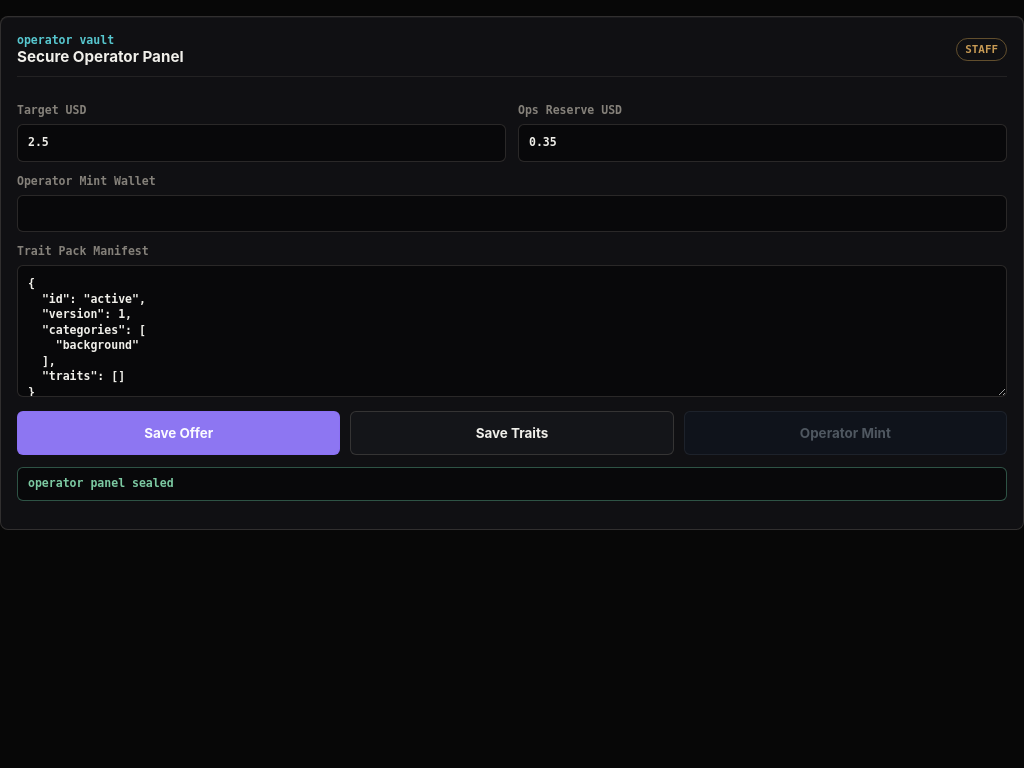
Test: AdminPanel › saves offer patches through the admin endpoint
Replace the text in the number field labelled "Target USD" with "4.25" at (262, 143), box x1=17 y1=124 x2=506 y2=162
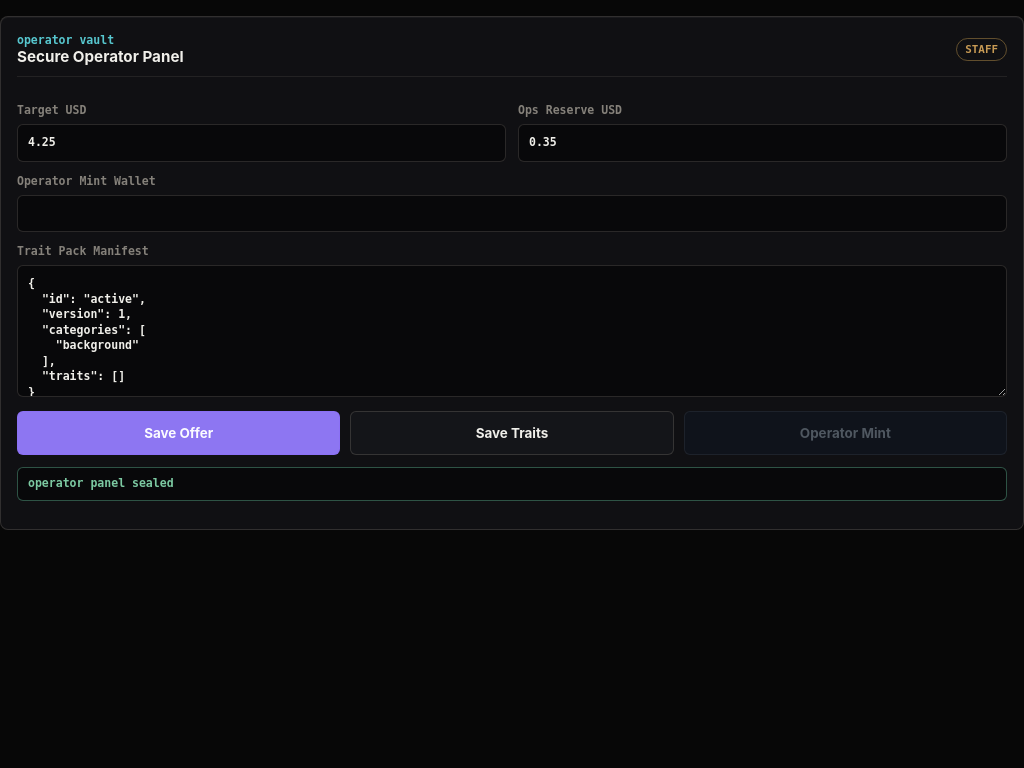
Replace the text in the number field labelled "Ops Reserve USD" with "0.5" at (762, 143), box x1=518 y1=124 x2=1007 y2=162
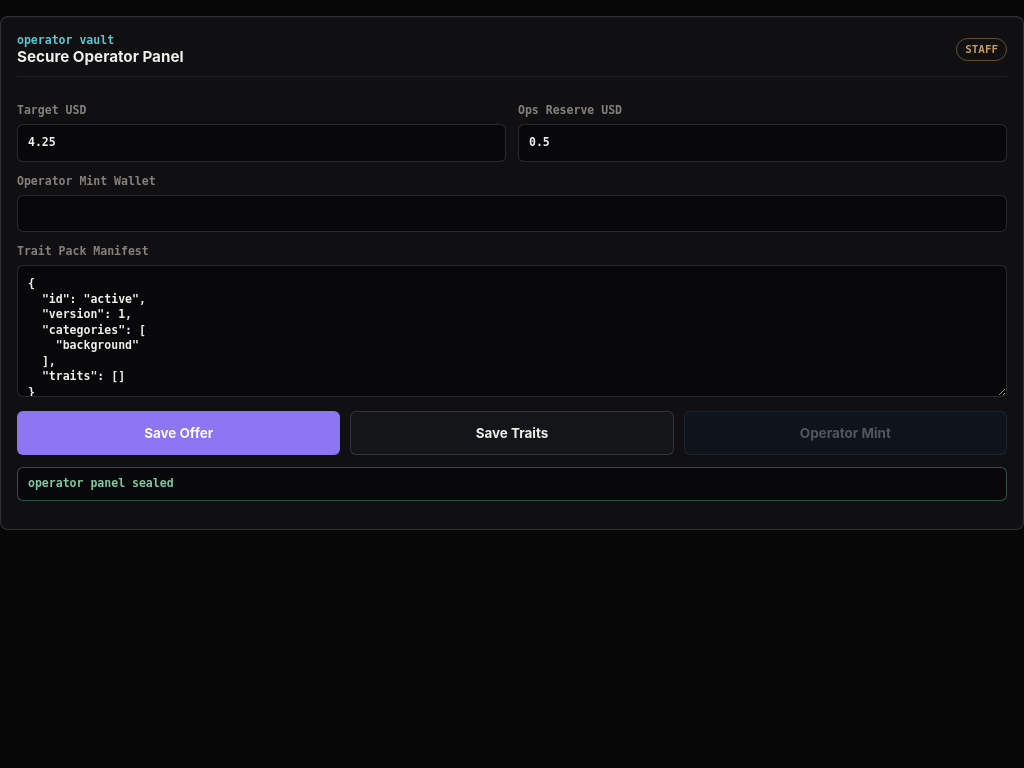
Click the button "Save Offer" at (179, 433), box x1=17 y1=411 x2=340 y2=455
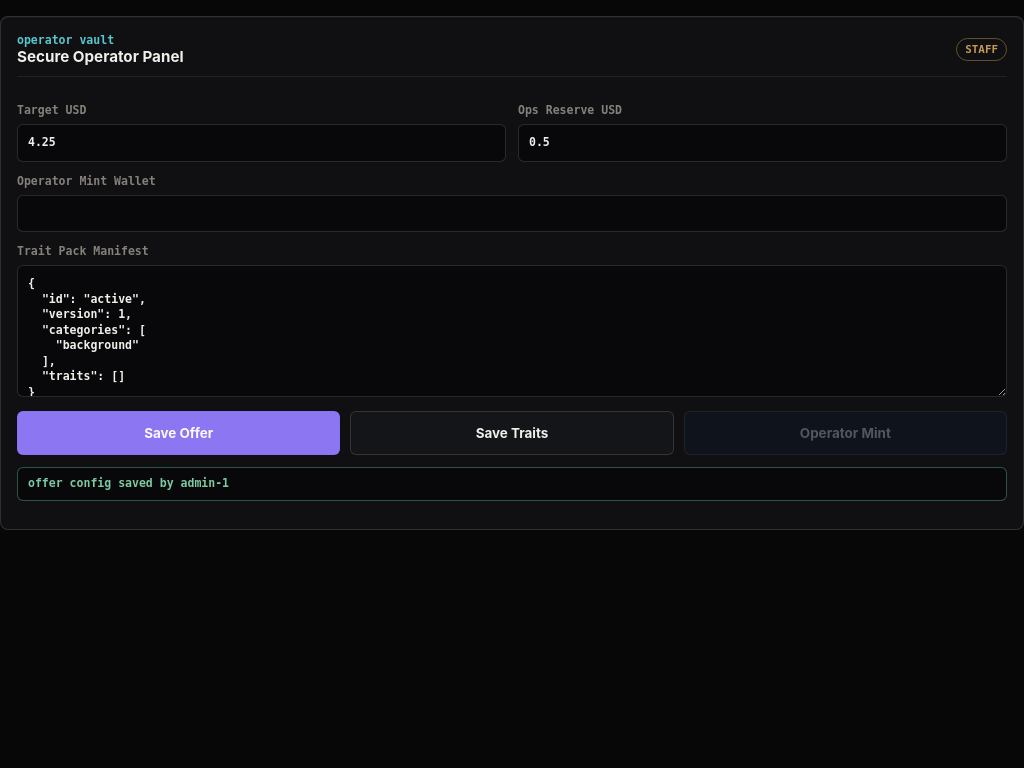
Expected: the text "offer config saved by admin-1" is shown, x1=17 y1=467 x2=1007 y2=501
